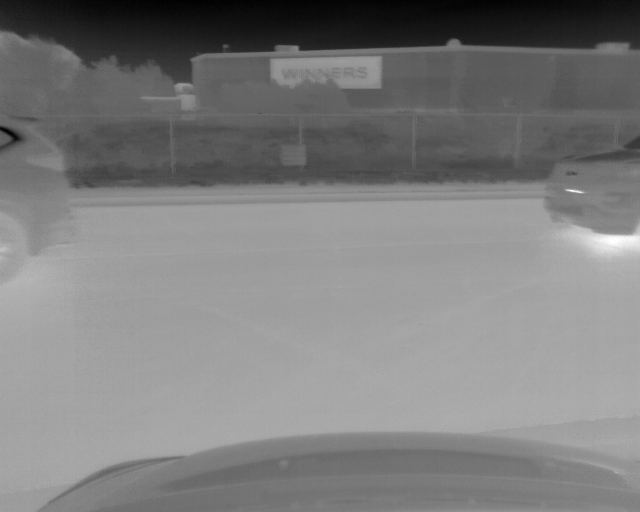car: (1, 114, 69, 285), (544, 131, 640, 241)
